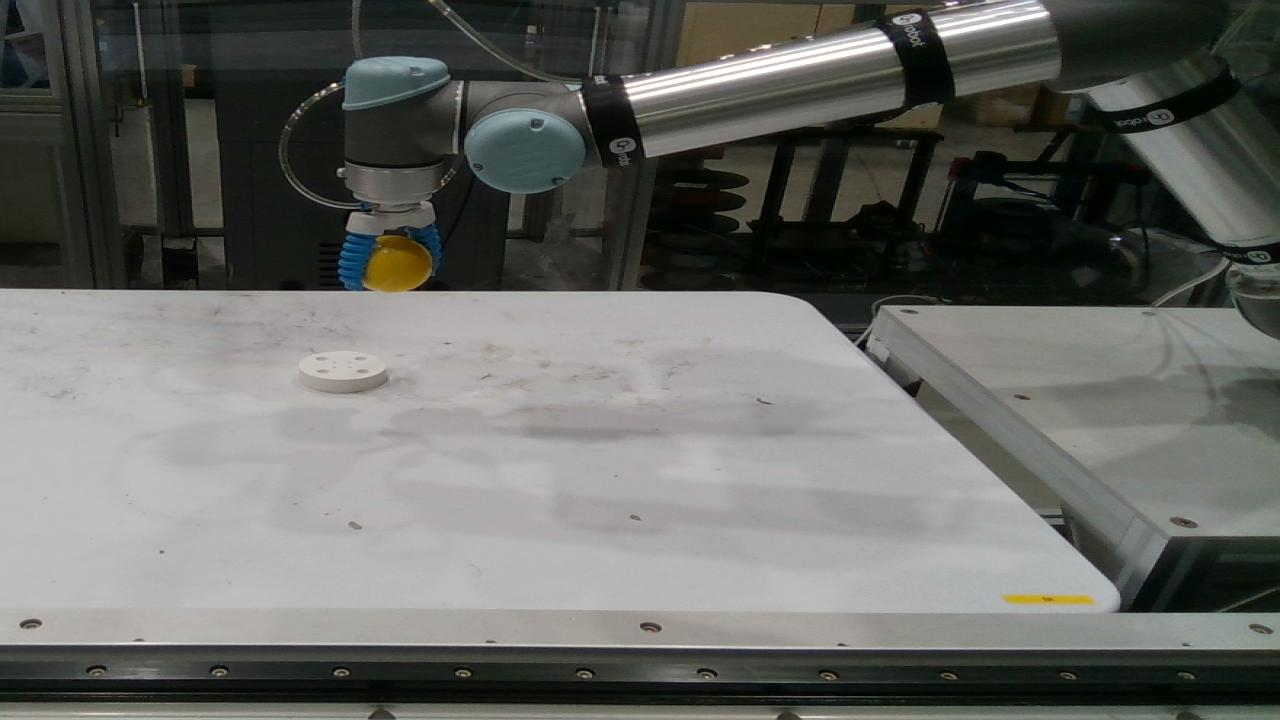UR5: (340, 0, 1279, 341)
gripper_left: (407, 222, 442, 276)
gripper_right: (339, 231, 377, 292)
target: (357, 236, 432, 292), (299, 351, 388, 394)
